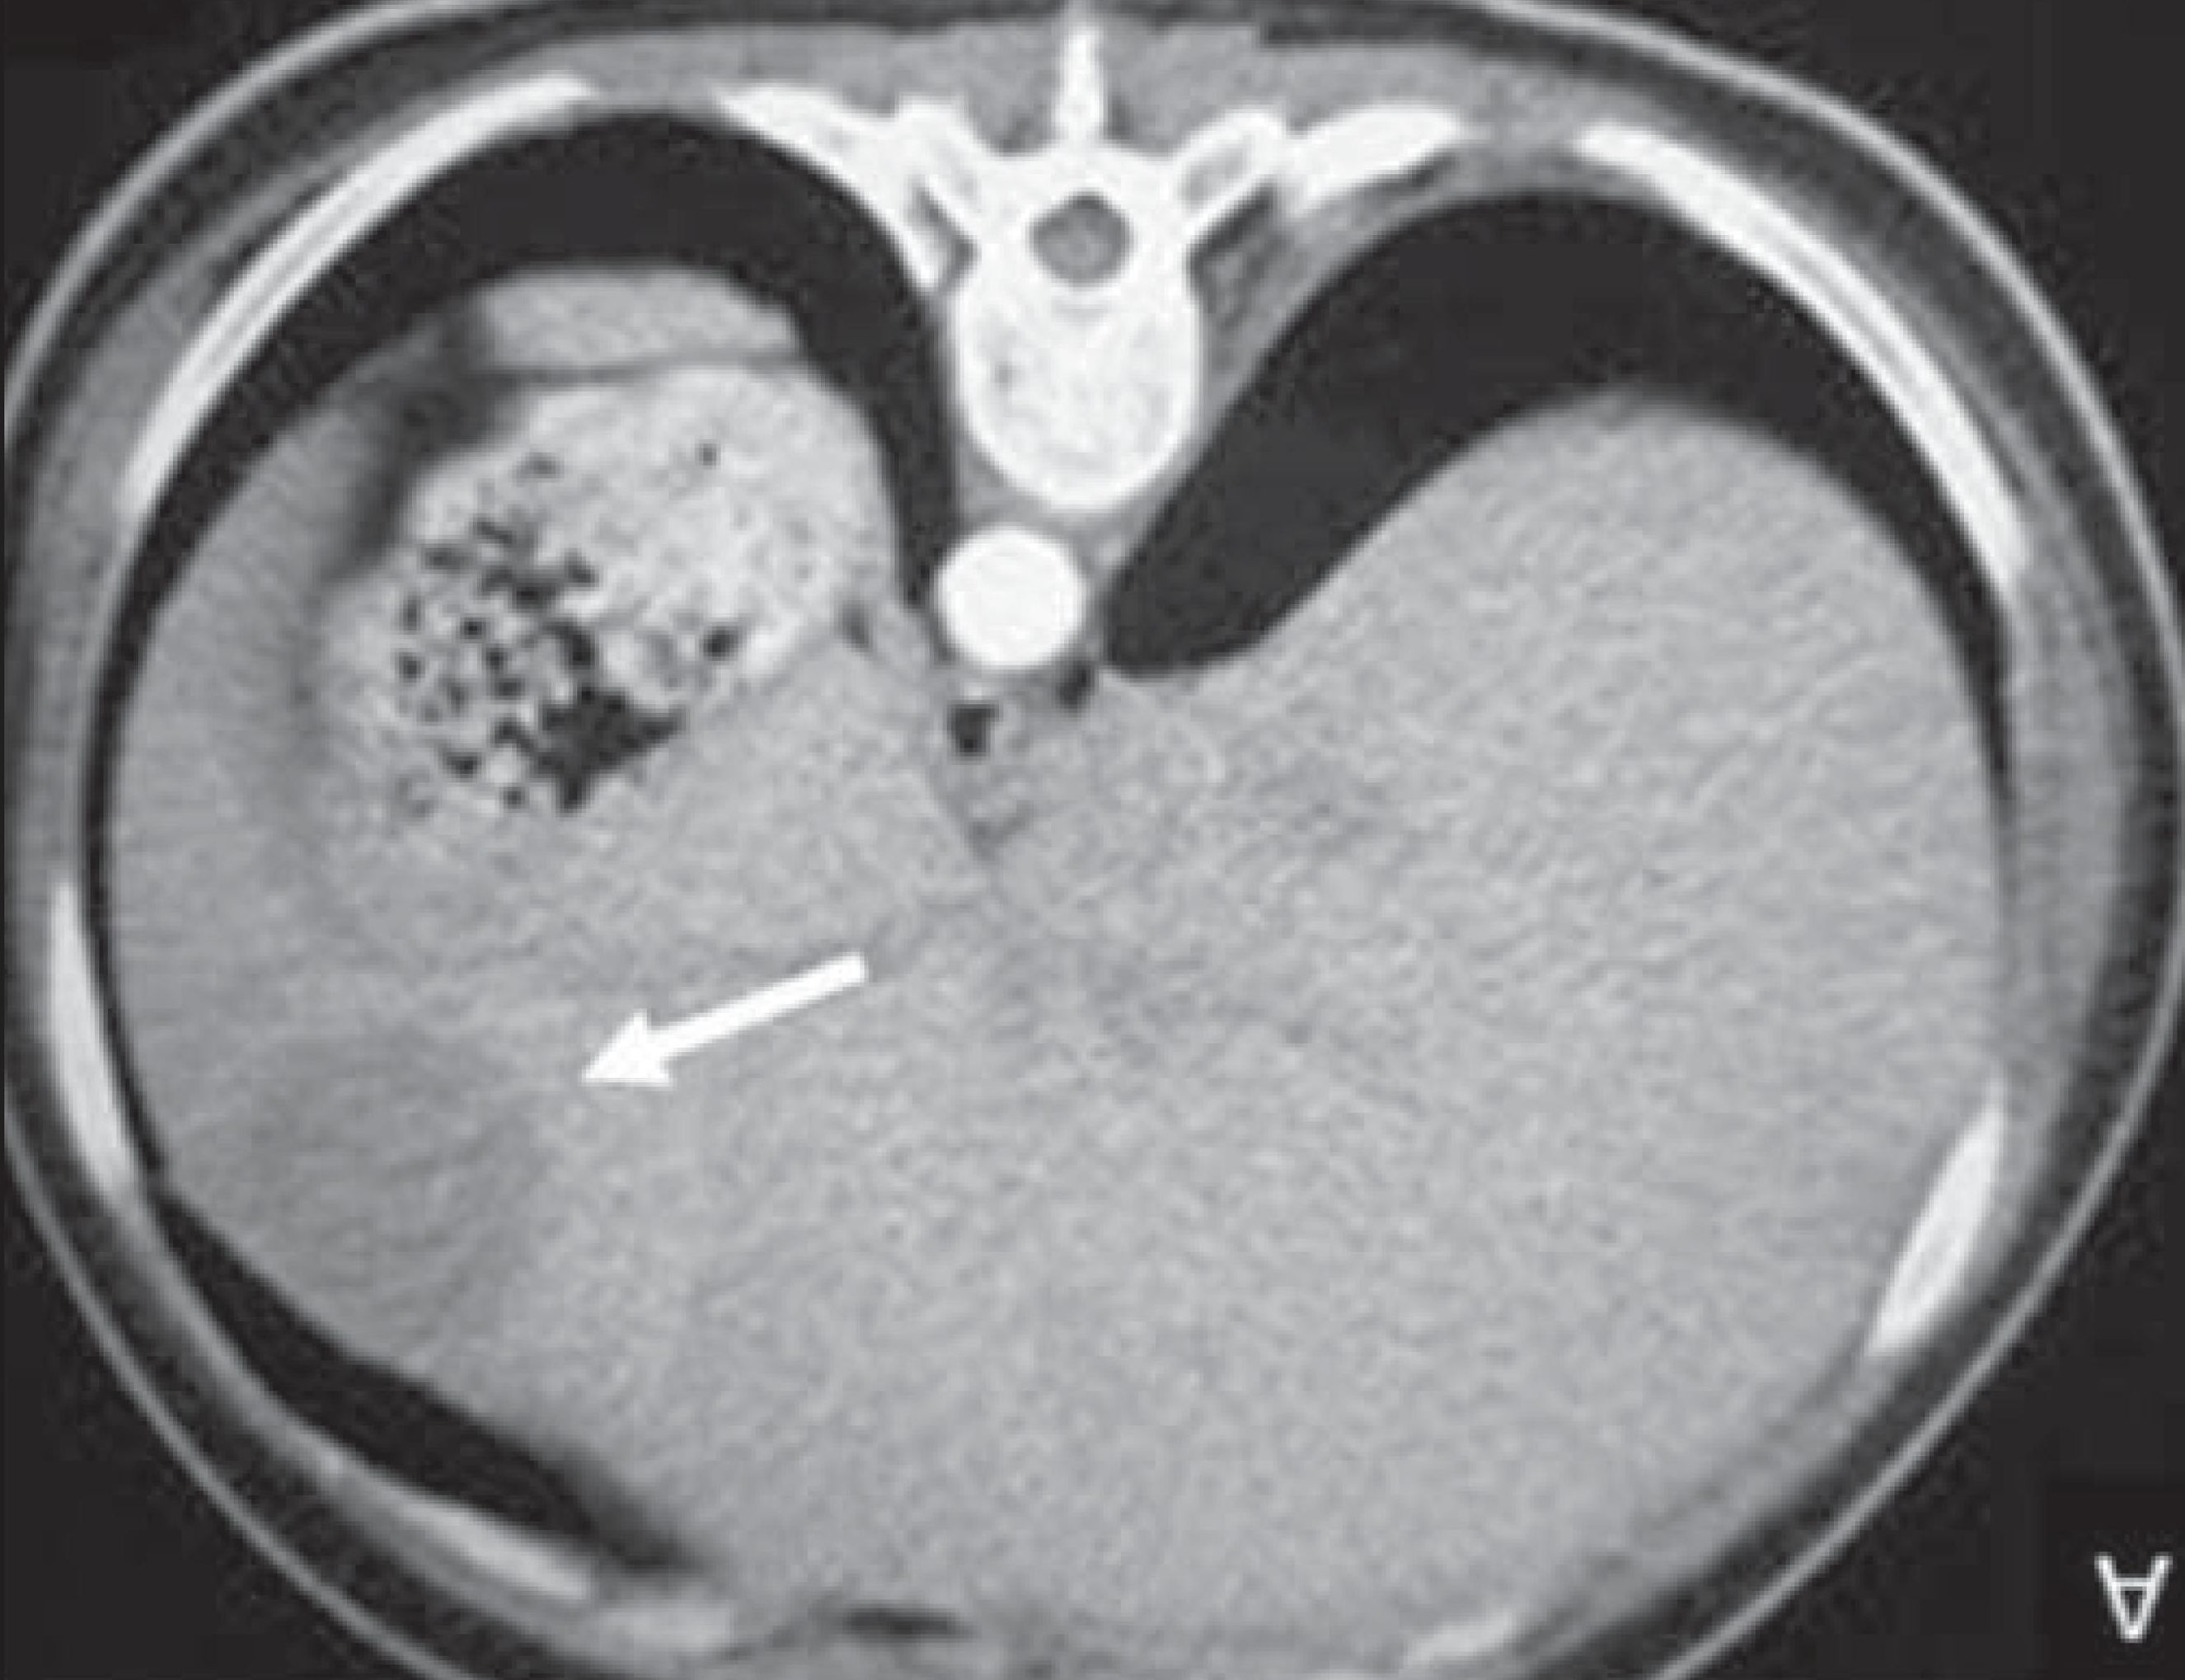anomaly: (231, 1018, 641, 1380)
